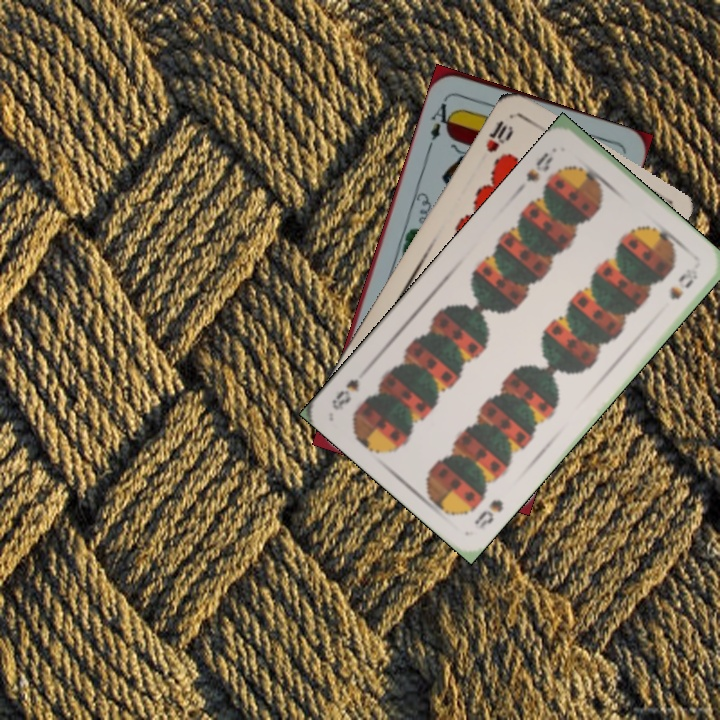EA: (424, 93, 457, 151)
H10: (481, 116, 516, 156)
S8: (470, 495, 506, 532), (522, 148, 556, 185)
